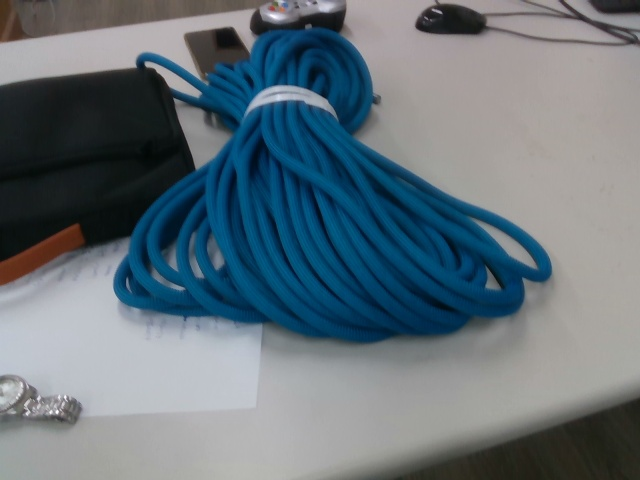rope: (113, 26, 556, 344)
